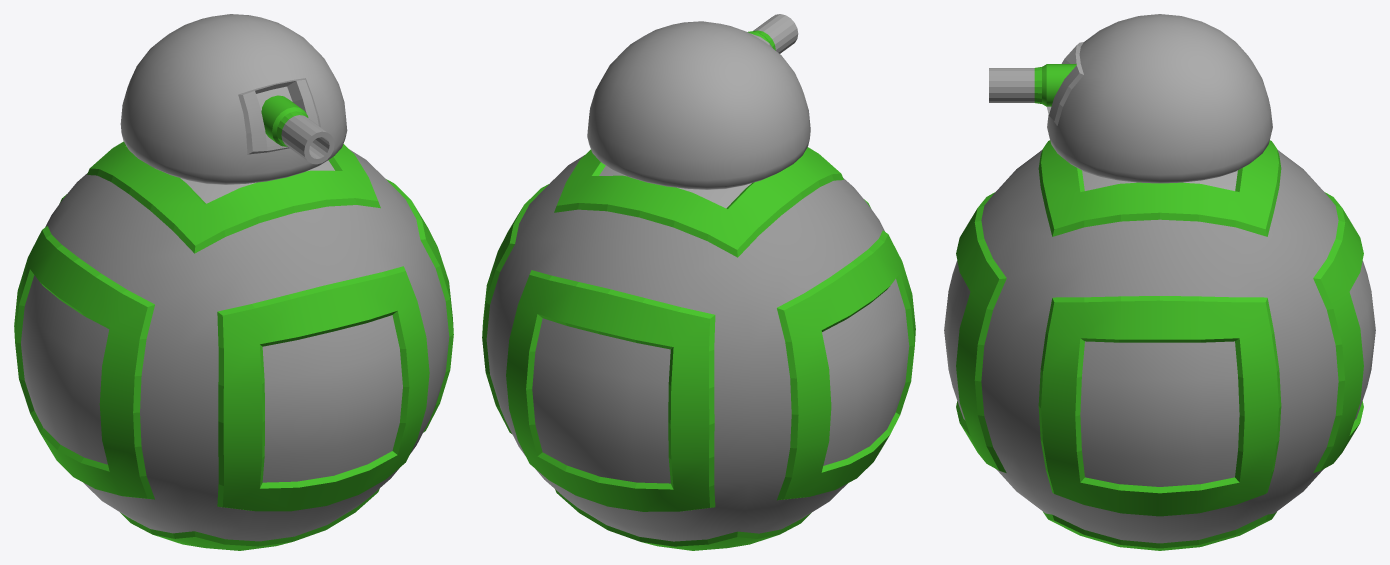
Rendered from BBGUN.FBX.
The picture shows the model from 3 angles, left to right: view 1: azimuth 30°, elevation 25°; view 2: azimuth 150°, elevation 25°; view 3: azimuth 270°, elevation 25°; orthographic projection.
Parts seen in each view (by area): view 1: Box001, Box002, Cylinder001; view 2: Box001, Box002, Cylinder001; view 3: Box001, Box002, Cylinder001.
Boxes of the visible parts, x1,y1,x2,y2 form: Box001: [14, 141, 453, 550]; Box002: [120, 14, 347, 184]; Cylinder001: [261, 95, 334, 164]; Box001: [482, 147, 915, 550]; Box002: [587, 21, 810, 189]; Cylinder001: [748, 14, 798, 53]; Box001: [944, 140, 1375, 550]; Box002: [1047, 14, 1272, 183]; Cylinder001: [989, 64, 1076, 106].
Size of the model in its own units: 0.8067 by 0.8067 by 1.03.
